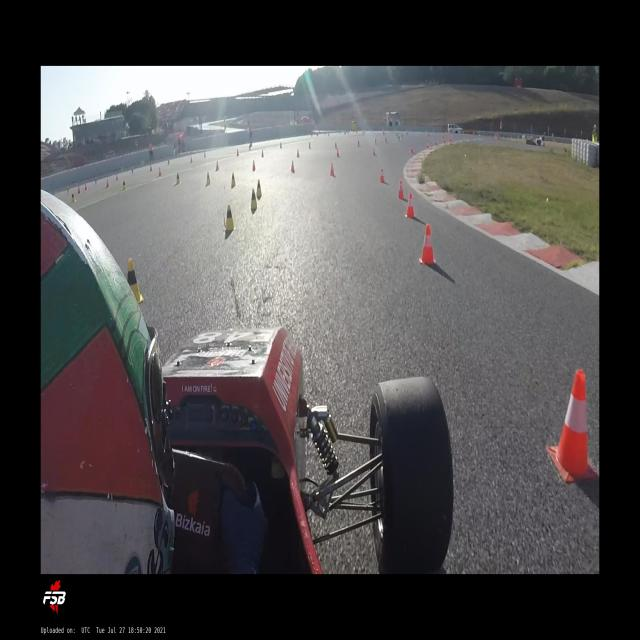orange_cone: (546, 368, 599, 484), (419, 224, 435, 264), (405, 194, 415, 218), (397, 180, 405, 200), (379, 168, 385, 183), (329, 162, 335, 176), (290, 160, 295, 172), (252, 160, 256, 172), (216, 160, 220, 171), (372, 146, 376, 156), (158, 167, 162, 177), (336, 148, 340, 157), (106, 179, 110, 188), (297, 148, 300, 158), (261, 149, 264, 158), (410, 146, 413, 154), (237, 148, 240, 156), (78, 186, 81, 194), (85, 183, 88, 191), (116, 174, 119, 181), (190, 156, 193, 163), (150, 164, 152, 172), (427, 142, 429, 148), (434, 140, 436, 145)
yellow_cone: (127, 257, 144, 303), (224, 204, 237, 232), (250, 187, 257, 209), (256, 178, 262, 198), (231, 172, 236, 188), (206, 172, 211, 186), (176, 172, 181, 185), (71, 192, 76, 202), (122, 180, 127, 190), (66, 186, 70, 193), (308, 141, 311, 149), (131, 167, 134, 174), (167, 160, 170, 166), (204, 150, 206, 158), (358, 140, 360, 147), (95, 178, 97, 184), (280, 142, 282, 148), (335, 142, 337, 148), (398, 136, 400, 142), (248, 145, 250, 151), (375, 139, 376, 145), (385, 137, 386, 143), (402, 134, 403, 140)
